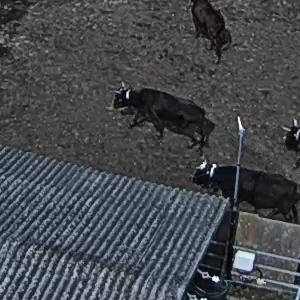cow: (96, 68, 220, 148), (188, 154, 300, 222), (185, 1, 250, 65)
